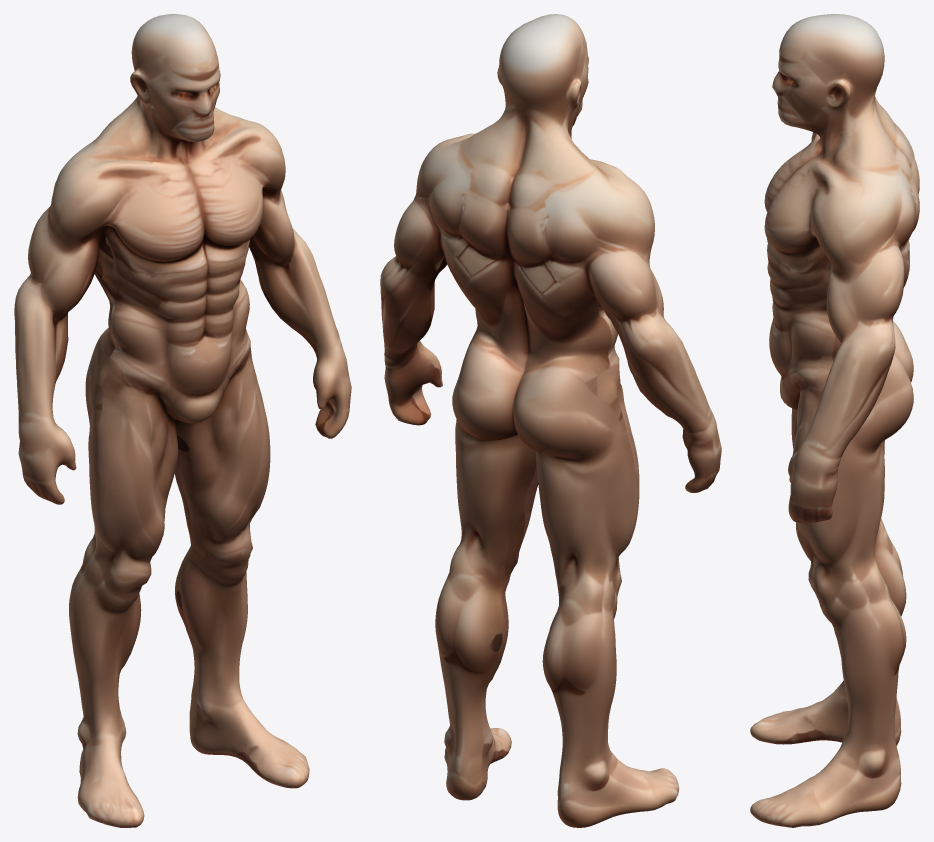
File: body_builder.glb
3 views of the same model, side by side, from view 1: azimuth 30°, elevation 25°; view 2: azimuth 150°, elevation 25°; view 3: azimuth 270°, elevation 25° (orthographic).
Visible parts, largest first — view 1: Object_2; view 2: Object_2; view 3: Object_2.
Boxes of the visible parts, x1,y1,x2,y2 form: Object_2: (14,14,351,827); Object_2: (380,14,721,827); Object_2: (750,14,919,827).
Bounding box in the file's own units: 0.8505 × 1.9 × 0.3844.
Materials: 1 (1 with a texture image).
